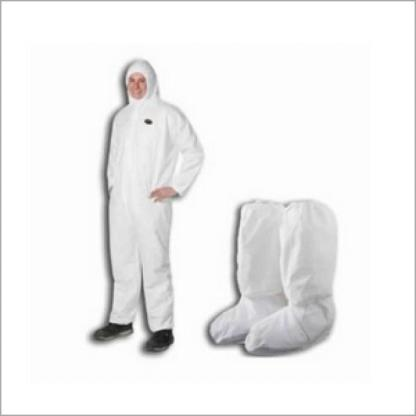bota: (92, 312, 132, 342), (143, 320, 174, 354)
